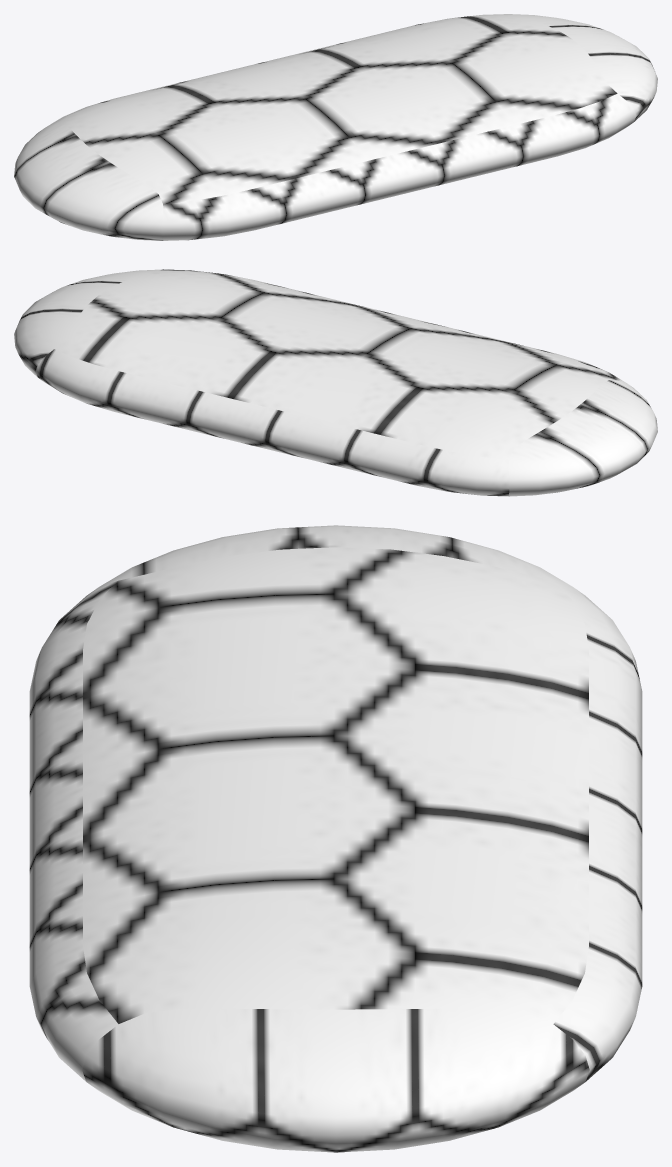
Rendered from EndZone_L2_01.fbx.
3 renders of one model, top to bottom at view 1: azimuth 30°, elevation 25°; view 2: azimuth 150°, elevation 25°; view 3: azimuth 270°, elevation 25°, orthographic. The views are drawn at different scales.
Visible parts, largest first — view 1: Capsule__1_1; view 2: Capsule__1_1; view 3: Capsule__1_1.
Part boxes in pixels (<box>): Capsule__1_1: <box>14,14,657,240</box>; Capsule__1_1: <box>14,269,657,496</box>; Capsule__1_1: <box>29,525,642,1152</box>.
Bounding box in the file's own units: 818402 × 93951 × 356944.
2 materials, 1 textured.
